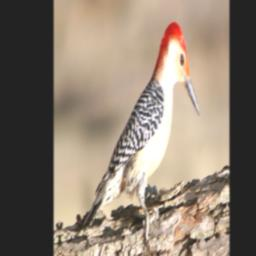Woodpecker: (77, 9, 203, 256)
